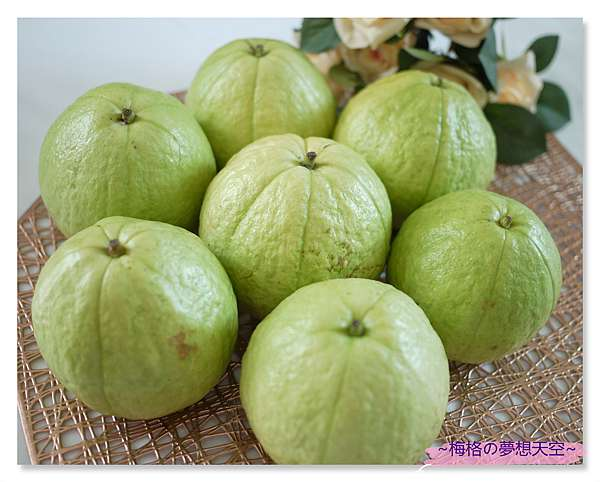guava: (30, 216, 242, 419), (241, 279, 449, 463), (201, 132, 392, 313), (388, 190, 563, 368), (37, 82, 217, 247), (334, 71, 498, 219), (184, 38, 337, 168)
